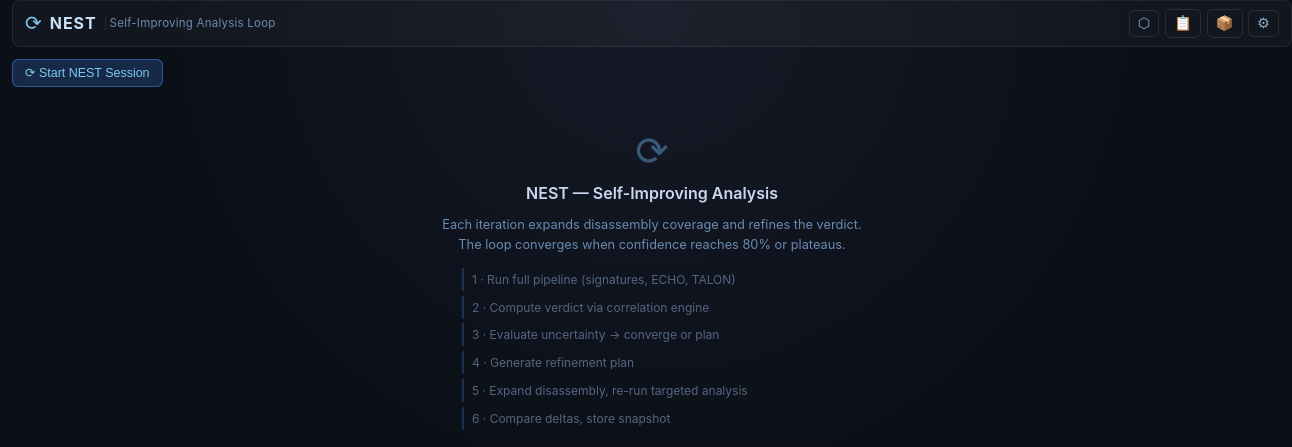
NEST rendered identity custody flow › rejects a malformed or wrong-identity lifecycle creation result: null
The image size is (1292, 447).
Click the button "⟳ Start NEST Session": (87, 73) [12,59,163,87]
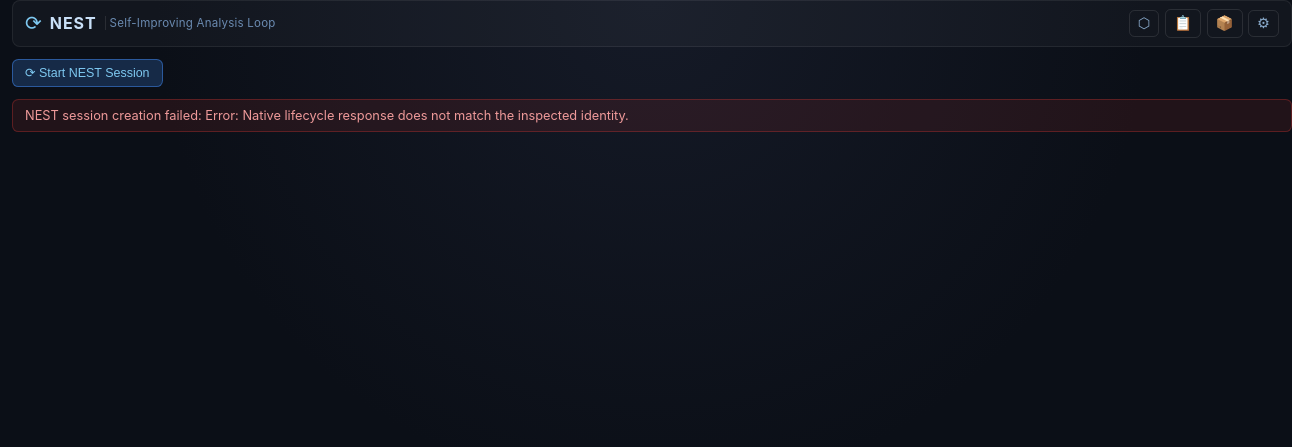
Check: the text with class "nest-error" shows "session creation", box [25,108,629,123]
